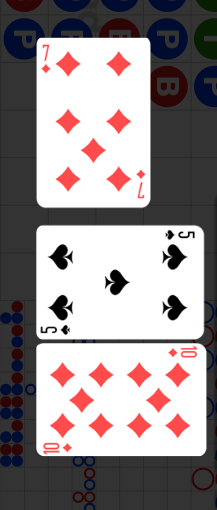10D: (167, 346, 198, 359)
5S: (163, 228, 196, 241)
7D: (40, 43, 53, 75)
